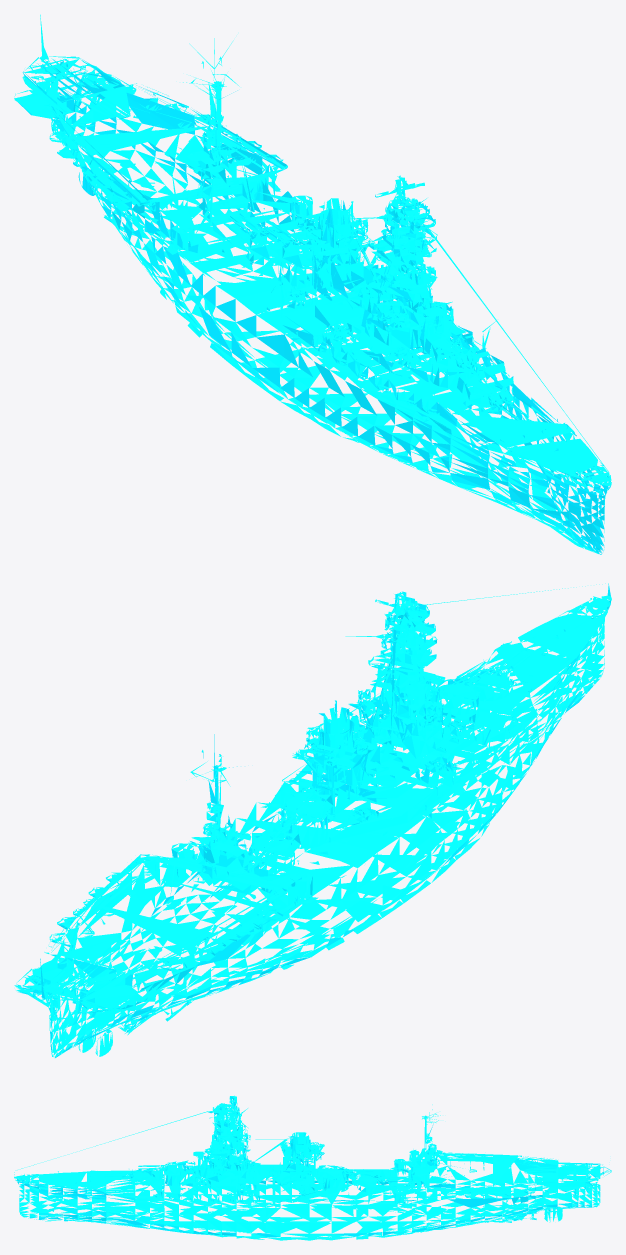
The model's file is PJSB526.glb.
3 renders of one model, top to bottom at view 1: azimuth 30°, elevation 25°; view 2: azimuth 150°, elevation 25°; view 3: azimuth 270°, elevation 25°, orthographic. The views are drawn at different scales.
Visible parts, largest first — view 1: hull, turret; view 2: hull, turret; view 3: hull, turret.
Part boxes in pixels (x1=…): hull: x1=14, y1=14, x2=611, y2=554; turret: x1=227, y1=212, x2=529, y2=420; hull: x1=14, y1=583, x2=611, y2=1057; turret: x1=248, y1=652, x2=529, y2=869; hull: x1=14, y1=1095, x2=611, y2=1240; turret: x1=104, y1=1156, x2=408, y2=1193.
Bounding box in the file's own units: 2.56 × 3.44 × 14.63.
